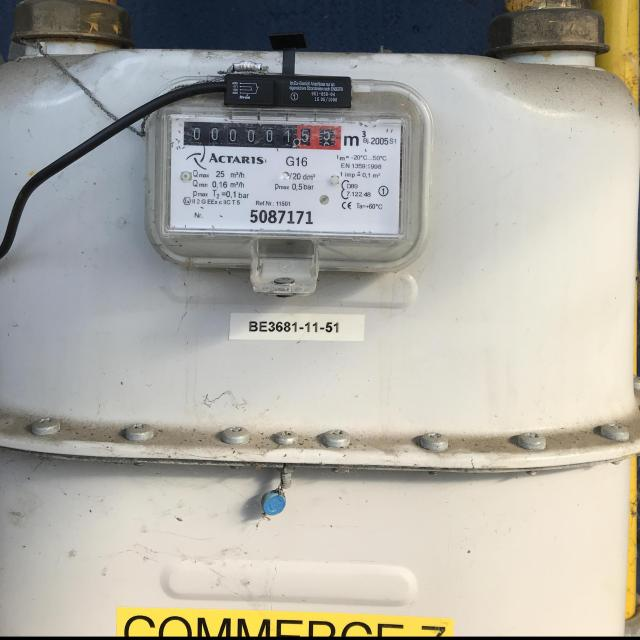gaz_meter: (167, 111, 407, 236)
indication: (185, 121, 341, 150)
